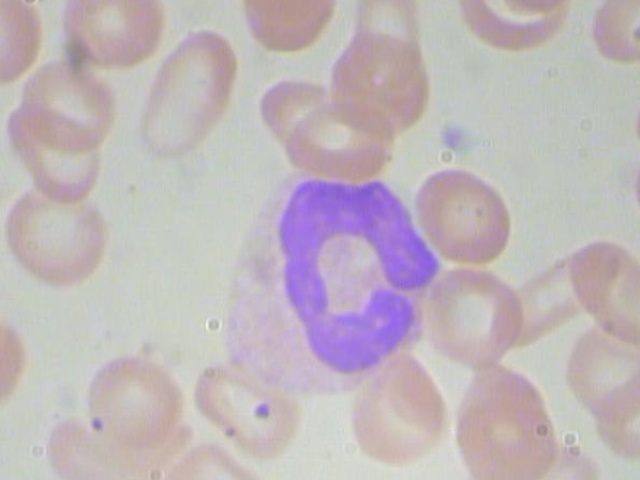RBC: (344, 345, 463, 469), (136, 26, 242, 164), (442, 361, 563, 480), (3, 175, 113, 289), (409, 262, 527, 367), (404, 166, 522, 270), (190, 360, 302, 460), (82, 348, 186, 454), (21, 60, 122, 158), (279, 99, 400, 179), (50, 0, 167, 71), (570, 232, 640, 345), (348, 0, 420, 99)
WBC: (219, 168, 454, 394)
